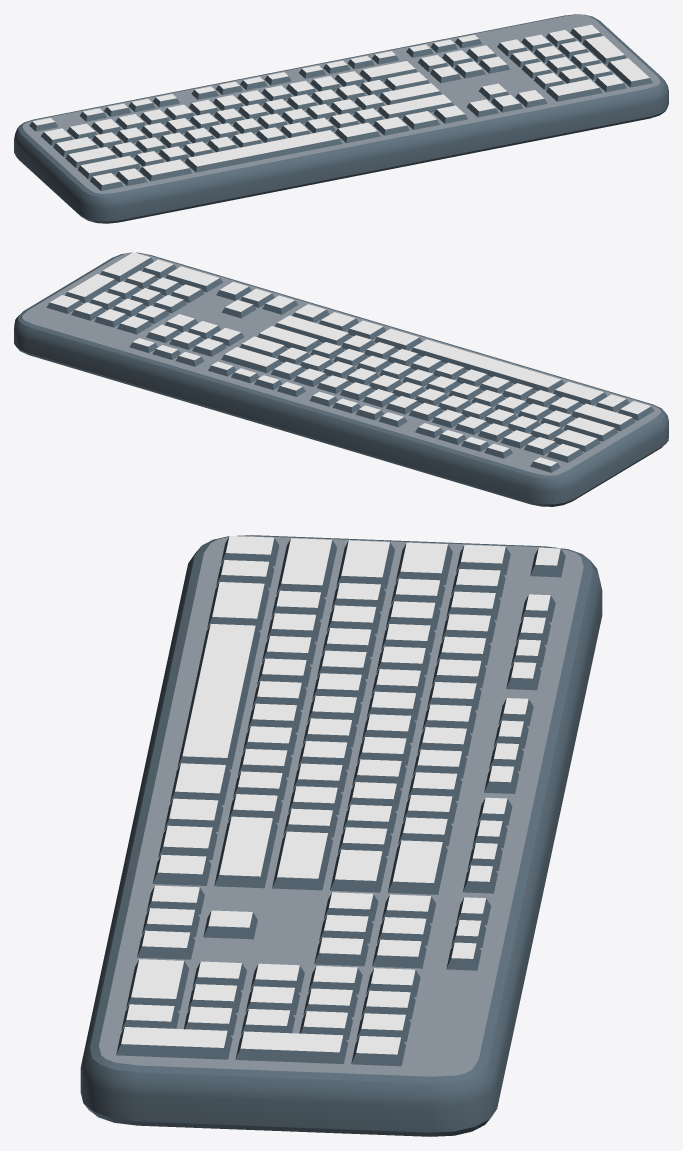
File: Keyboard.fbx
3 views of the same model, one above another, from view 1: azimuth 30°, elevation 25°; view 2: azimuth 150°, elevation 25°; view 3: azimuth 270°, elevation 25° (orthographic). The views are drawn at different scales.
Parts seen in each view (by area): view 1: Keyboard; view 2: Keyboard; view 3: Keyboard.
Part boxes in pixels (box(x1,y1,x2,y2)): Keyboard: box(14, 14, 668, 223); Keyboard: box(14, 252, 668, 506); Keyboard: box(80, 535, 602, 1136).
Bounding box in the file's own units: 0.5236 × 0.0282 × 0.2075.
